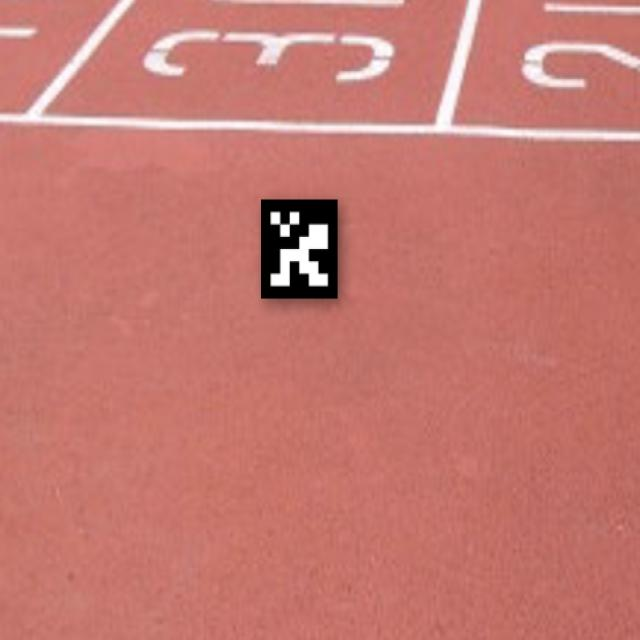marker: (254, 186, 348, 309)
